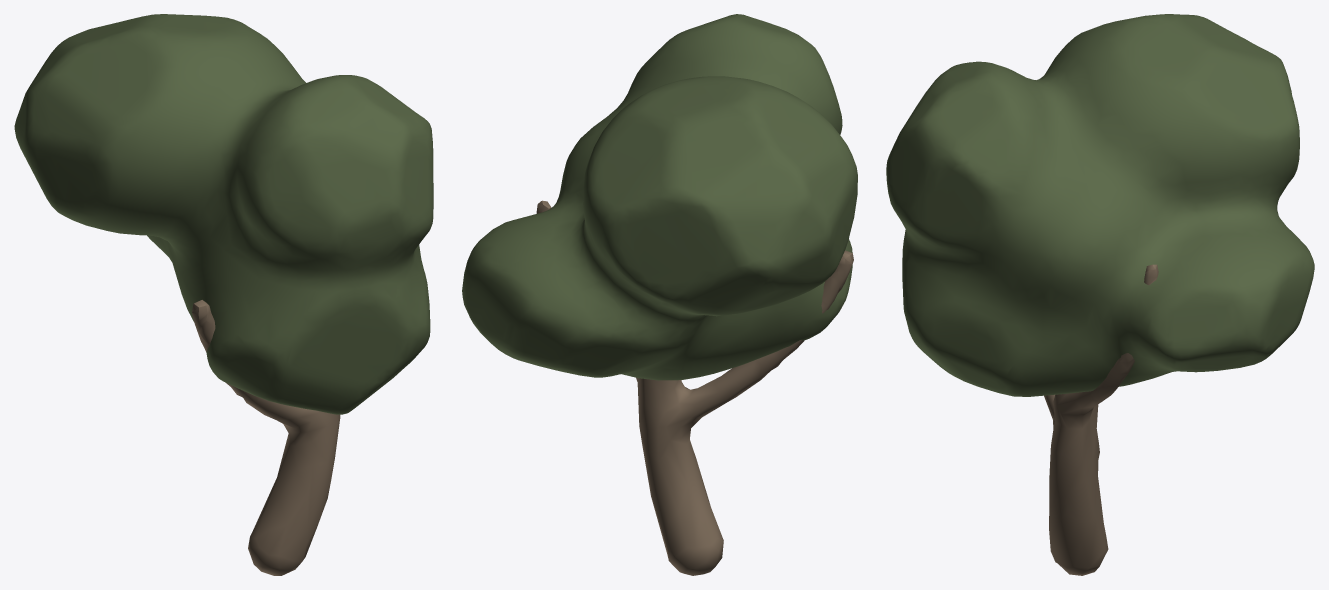
Rendered from juniper.glb.
3 views of the same model, side by side, from view 1: azimuth 30°, elevation 25°; view 2: azimuth 150°, elevation 25°; view 3: azimuth 270°, elevation 25° (orthographic). The views are drawn at different scales.
Visible parts, largest first — view 1: foliage, trunk; view 2: foliage, trunk; view 3: foliage, trunk.
Part boxes in pixels (<box>): foliage: <box>14,14,433,414</box>; trunk: <box>192,300,340,575</box>; foliage: <box>462,14,857,380</box>; trunk: <box>536,200,853,575</box>; foliage: <box>886,14,1314,396</box>; trunk: <box>1044,264,1158,575</box>.
Bounding box in the file's own units: 2.14 × 3.1 × 2.35.
